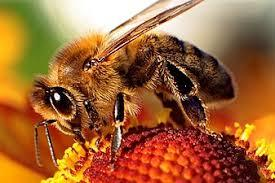Apis-mellifera-scutellata: (26, 0, 236, 177)
